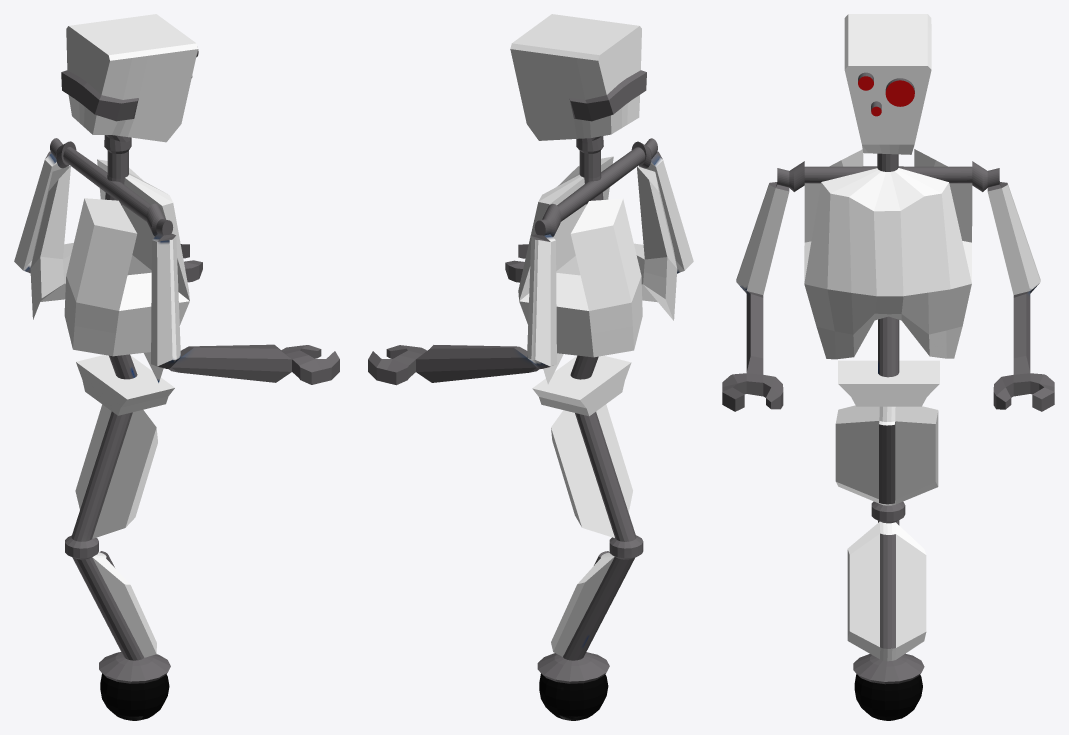
Rendered from player_white.obj.
3 views of the same model, side by side, from view 1: azimuth 30°, elevation 25°; view 2: azimuth 150°, elevation 25°; view 3: azimuth 270°, elevation 25° (orthographic).
Visible parts, largest first — view 1: Sphere_Sphere.002; view 2: Sphere_Sphere.002; view 3: Sphere_Sphere.002.
Part boxes in pixels (bbox=[...]): Sphere_Sphere.002: bbox=[14, 14, 339, 720]; Sphere_Sphere.002: bbox=[368, 14, 693, 720]; Sphere_Sphere.002: bbox=[722, 14, 1054, 720].
Bounding box in the file's own units: 6.9 × 21.73 × 9.61.
Materials: 1 (1 with a texture image).
